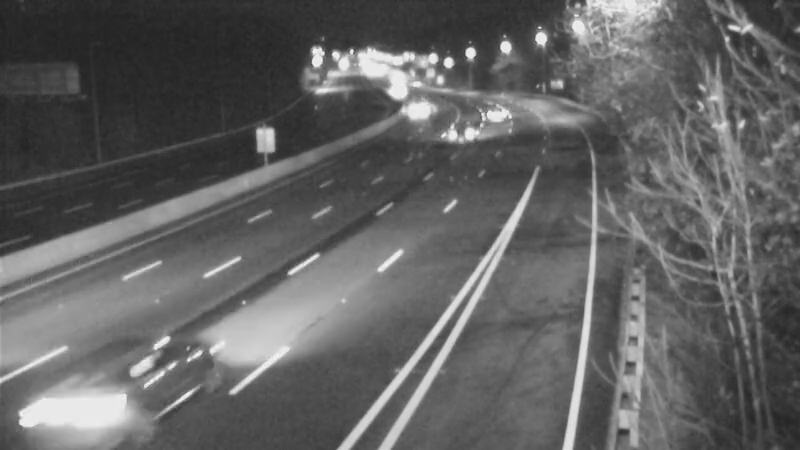vehicle: (28, 348, 138, 450), (374, 66, 424, 116), (394, 84, 444, 134), (465, 89, 515, 139), (436, 104, 486, 154)
